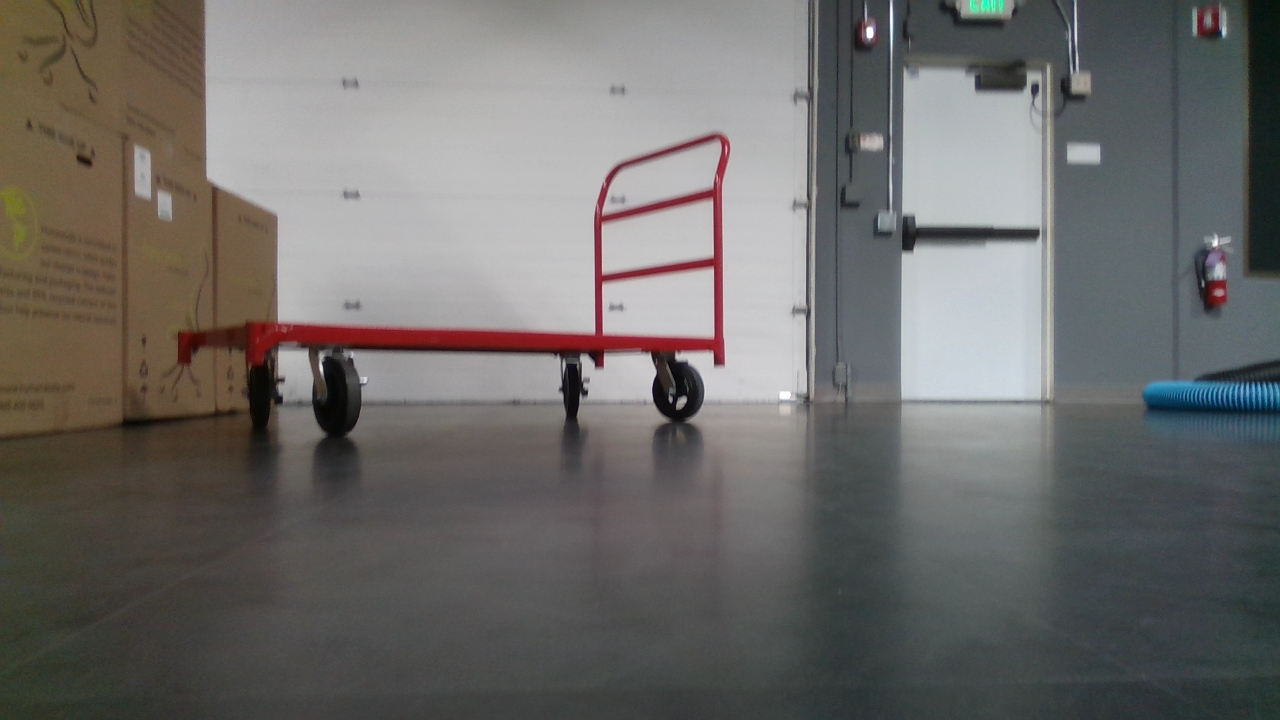Dolly: (176, 127, 733, 439)
Wheel: (310, 352, 367, 436), (649, 359, 707, 423), (244, 362, 285, 430), (557, 360, 588, 420)
